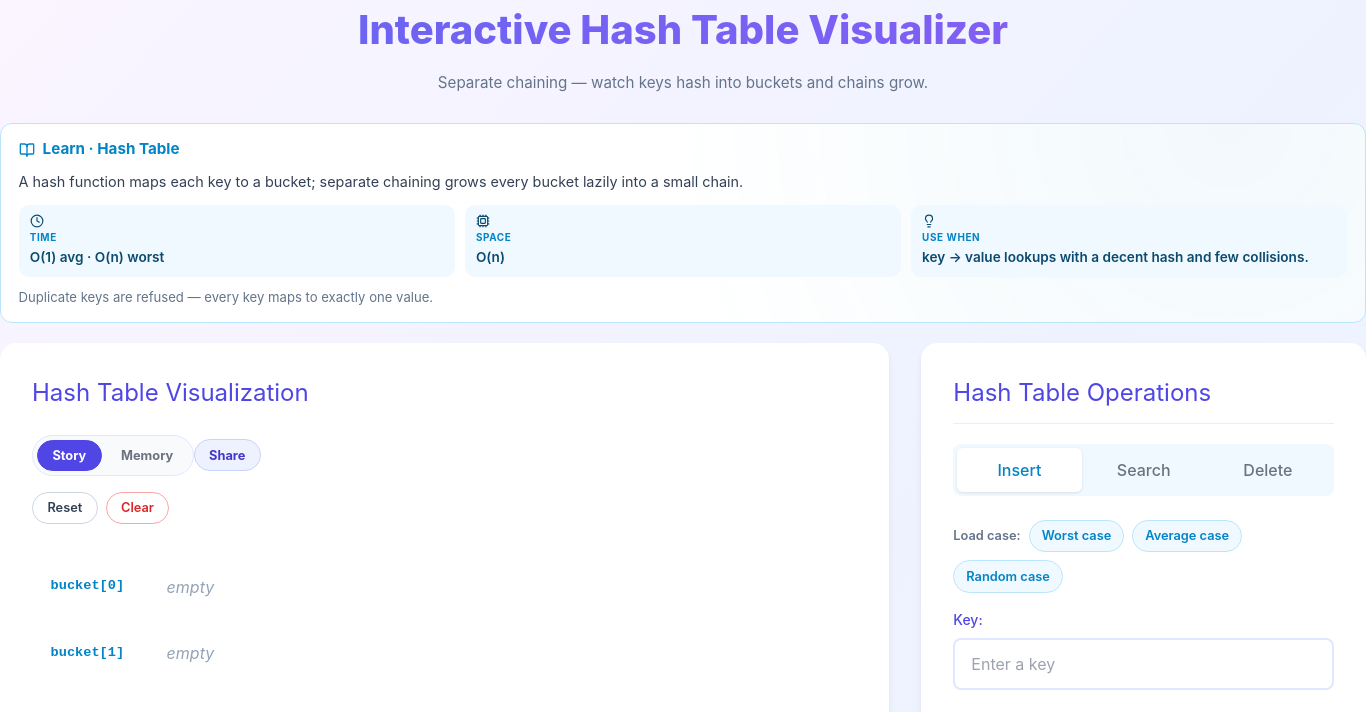
Test: hash table operations › inserting a key records the run and appends to its bucket chain
In the number field with placeholder "Enter a key": (1144, 664) [953,638,1334,690], type "47"
(page scrolled)
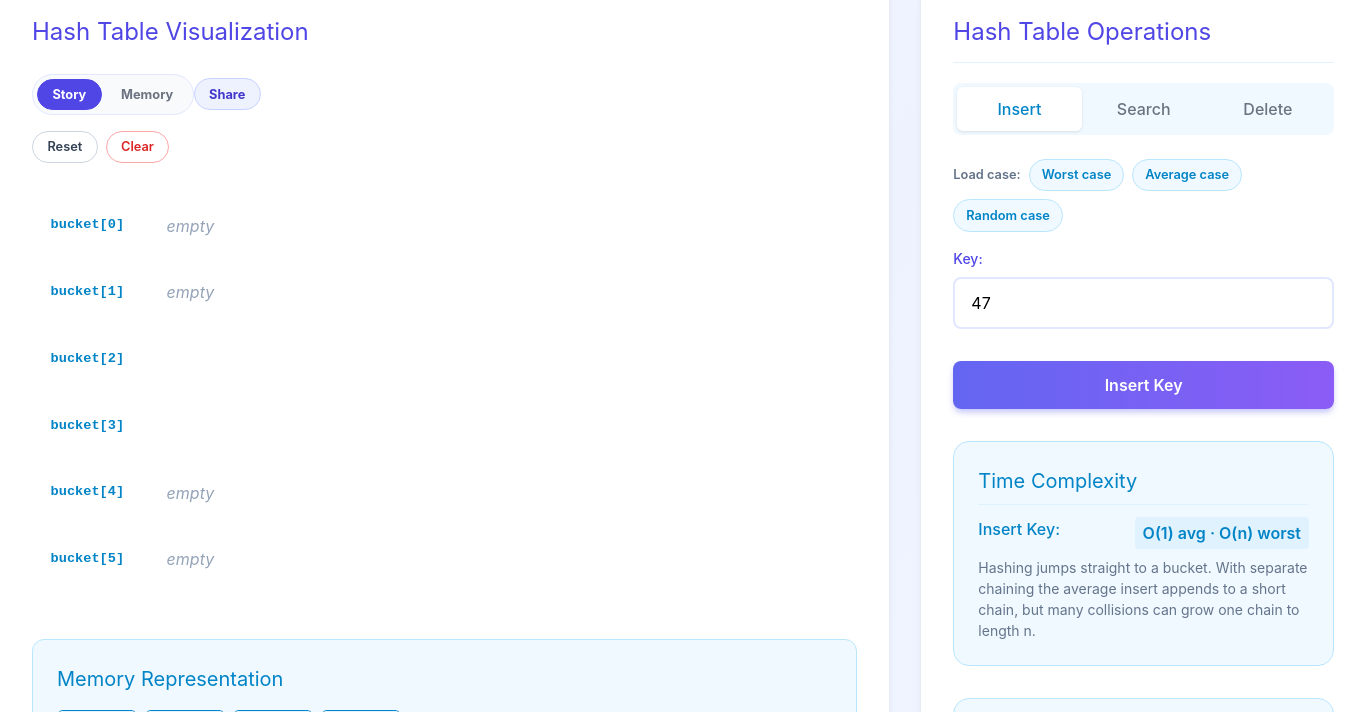
Click the button "Insert Key": (1144, 385) [953,361,1334,409]
Wait 30000 ms
(page scrolled)
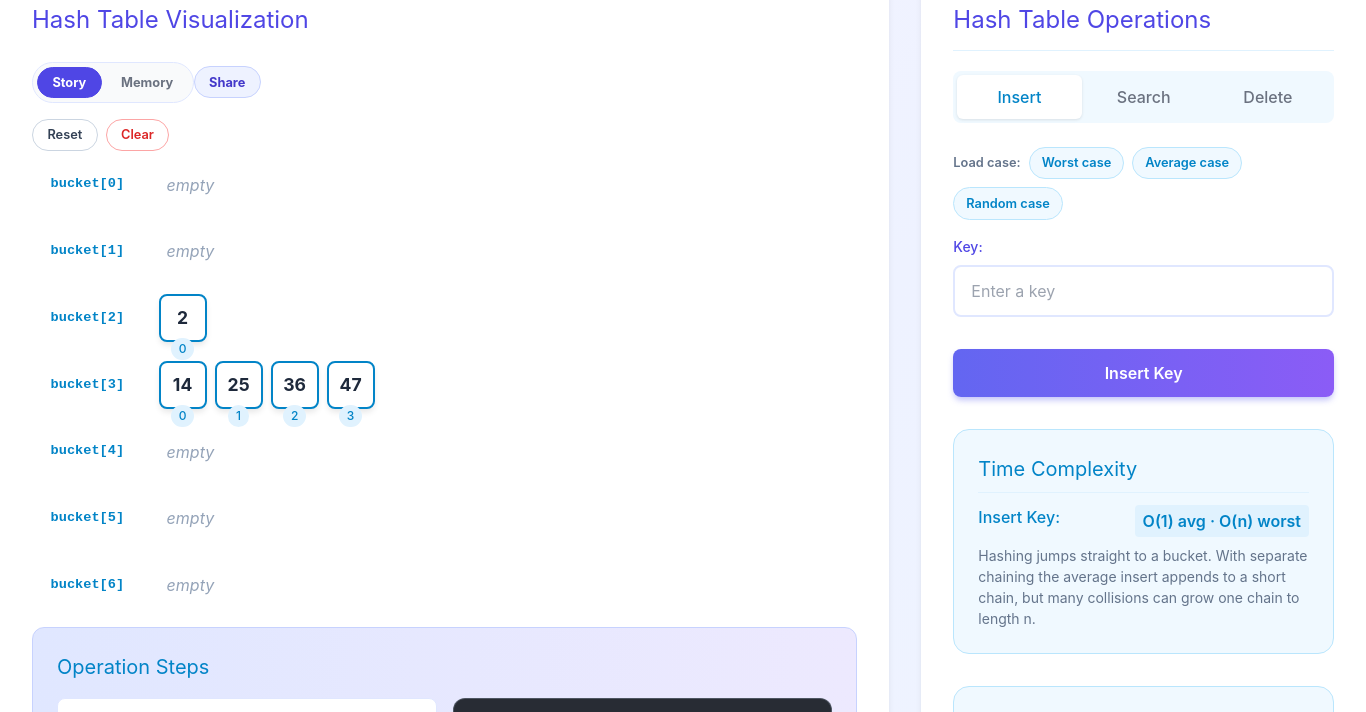
Expected: the text "47" is shown, [340,372,362,398]
